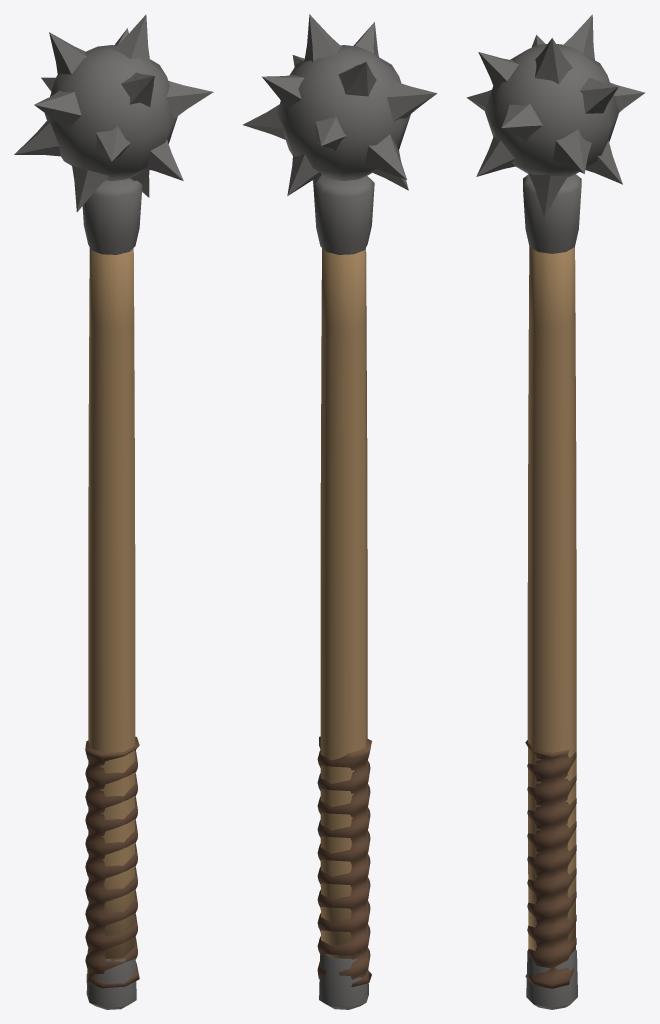
Rendered from morningstar.glb.
3 views of the same model, side by side, from view 1: azimuth 30°, elevation 25°; view 2: azimuth 150°, elevation 25°; view 3: azimuth 270°, elevation 25° (orthographic).
Parts seen in each view (by area): view 1: morningstar; view 2: morningstar; view 3: morningstar.
Part boxes in pixels (left/top/right/bottom): morningstar: left=14, top=14, right=213, bottom=1009; morningstar: left=243, top=14, right=436, bottom=1009; morningstar: left=466, top=14, right=645, bottom=1009.
Size of the model in its own units: 0.3528 by 1.93 by 0.3194.
